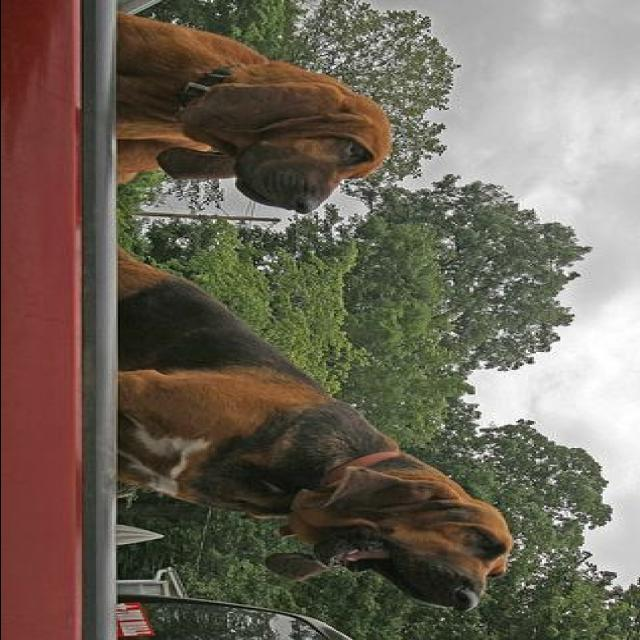bloodhound: (113, 237, 521, 610), (111, 13, 392, 215)
